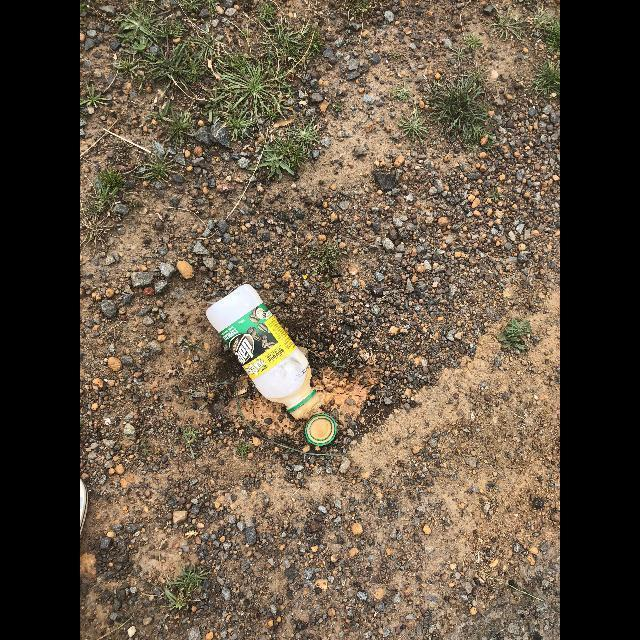Plastic: (206, 285, 320, 419), (306, 414, 336, 446)
